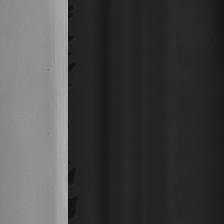inclusion: (46, 61, 50, 76), (46, 128, 51, 138), (46, 97, 50, 108)
